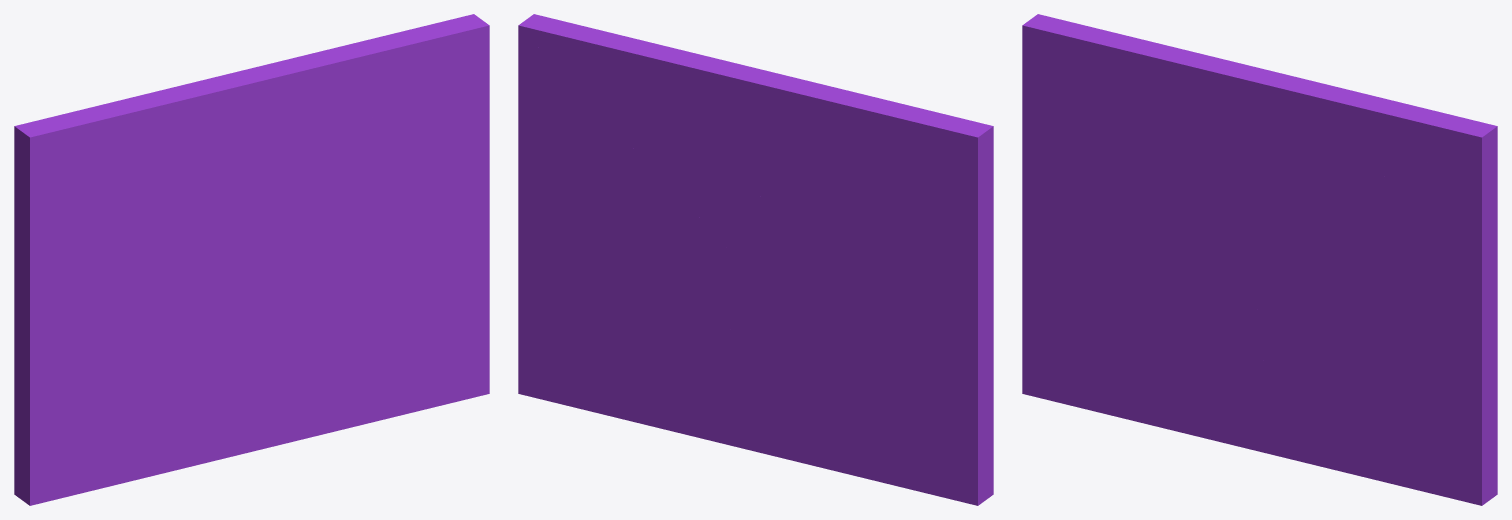
The model's file is Barrier_172_chunks.fbx.
3 views of the same model, side by side, from view 1: azimuth 30°, elevation 25°; view 2: azimuth 150°, elevation 25°; view 3: azimuth 330°, elevation 25° (orthographic).
Parts seen in each view (by area): view 1: Barrier_172_2, Barrier_172_0, Barrier_172_4, Barrier_172_6, Barrier_172_3, Barrier_172_5; view 2: Barrier_172_2, Barrier_172_0, Barrier_172_4, Barrier_172_6, Barrier_172_5, Barrier_172_1, Barrier_172_3; view 3: Barrier_172_2, Barrier_172_0, Barrier_172_6, Barrier_172_4, Barrier_172_3, Barrier_172_5.
Part boxes in pixels (x1,y1,x2,y2): Barrier_172_2: (260, 15, 489, 444); Barrier_172_0: (14, 209, 281, 505); Barrier_172_4: (14, 83, 227, 251); Barrier_172_6: (191, 14, 482, 144); Barrier_172_3: (56, 84, 275, 208); Barrier_172_5: (211, 107, 406, 262); Barrier_172_2: (518, 14, 733, 444); Barrier_172_0: (728, 203, 993, 505); Barrier_172_4: (744, 94, 993, 260); Barrier_172_6: (518, 15, 802, 155); Barrier_172_5: (603, 115, 785, 262); Barrier_172_1: (726, 246, 777, 390); Barrier_172_3: (787, 76, 965, 119); Barrier_172_2: (1252, 127, 1497, 505); Barrier_172_0: (1022, 102, 1273, 454); Barrier_172_6: (1213, 57, 1497, 178); Barrier_172_4: (1022, 14, 1220, 227); Barrier_172_3: (1048, 31, 1267, 192); Barrier_172_5: (1203, 152, 1398, 262).
Size of the model in its own units: 376 by 288 by 22.1.
